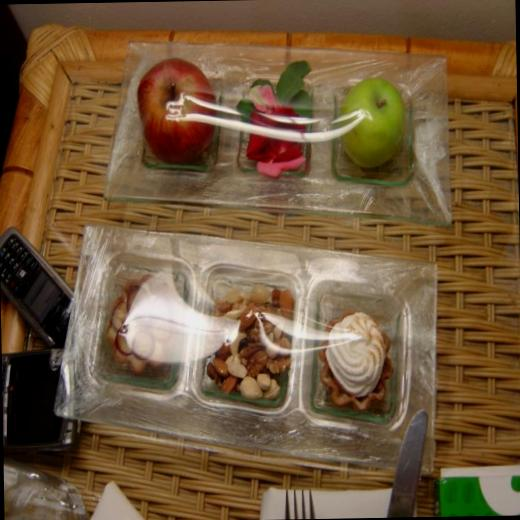Apple: (138, 56, 220, 166), (337, 75, 411, 170)
